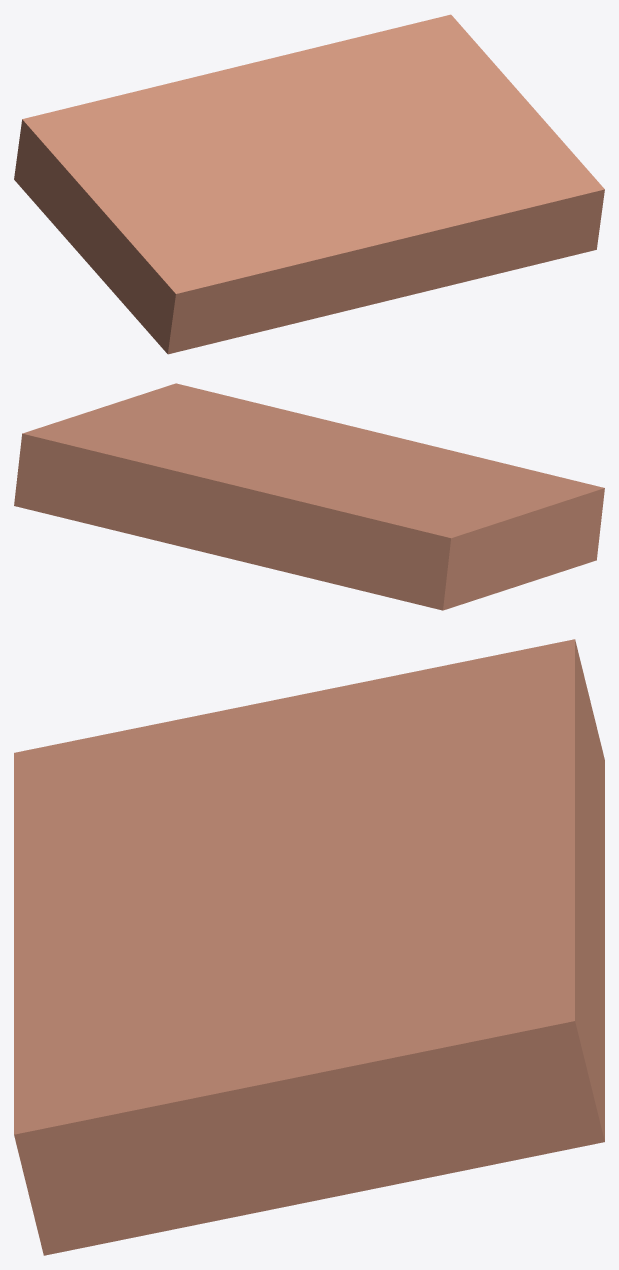
Rendered from MOD_ROOF_TILE_STANDARD_001_LOD_MAP.glb.
The picture shows the model from 3 angles, top to bottom: view 1: azimuth 30°, elevation 25°; view 2: azimuth 150°, elevation 25°; view 3: azimuth 270°, elevation 25°; orthographic projection. The views are drawn at different scales.
Visible parts, largest first — view 1: MOD_ROOF_TILE_STANDARD_001_gable_tile_roof_ROOF.002; view 2: MOD_ROOF_TILE_STANDARD_001_gable_tile_roof_ROOF.002; view 3: MOD_ROOF_TILE_STANDARD_001_gable_tile_roof_ROOF.002.
Boxes of the visible parts, <box> form: MOD_ROOF_TILE_STANDARD_001_gable_tile_roof_ROOF.002: <box>14,14,604,354</box>; MOD_ROOF_TILE_STANDARD_001_gable_tile_roof_ROOF.002: <box>14,383,604,610</box>; MOD_ROOF_TILE_STANDARD_001_gable_tile_roof_ROOF.002: <box>14,639,604,1255</box>.
Size of the model in its own units: 3.3 by 0.9462 by 2.16.
